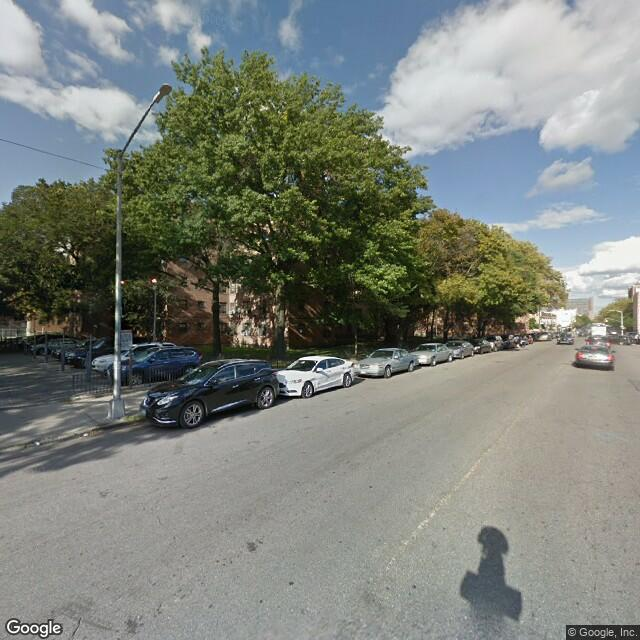litter: (78, 428, 110, 443), (30, 439, 50, 450)
